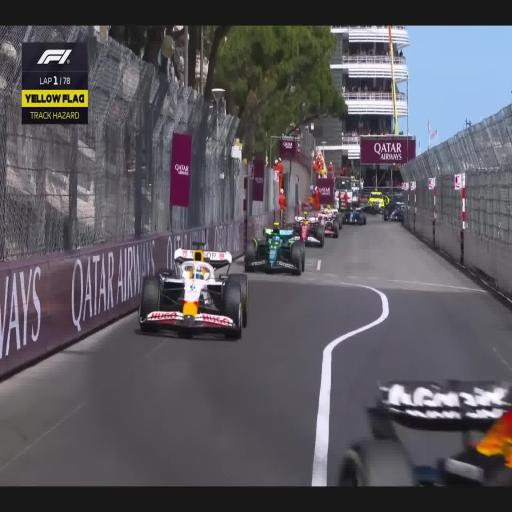f1_car: (339, 381, 512, 486), (139, 248, 247, 338), (244, 222, 305, 275), (292, 211, 325, 247), (317, 208, 342, 238), (343, 204, 366, 225), (193, 242, 204, 247)
